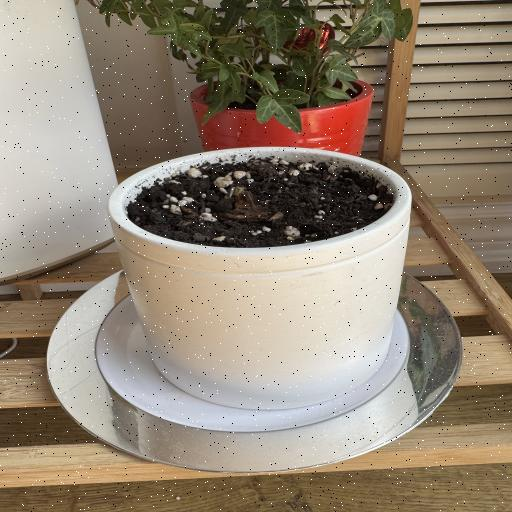Plant Pot: (104, 147, 416, 414), (193, 69, 374, 159)
